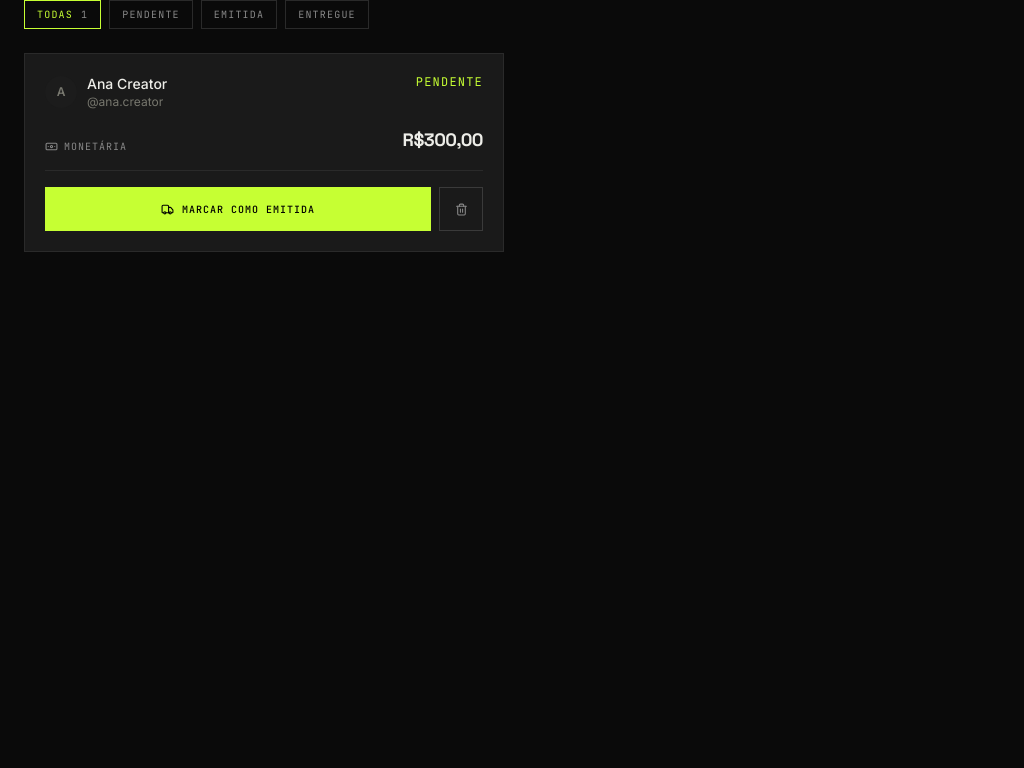
CampaignRewardsTab › remover recompensa › pede confirmação antes de apagar, e não apaga nada até confirmar
This screenshot has width=1024, height=768.
Click the button named "remover recompensa".
click(461, 209)  # box x1=439 y1=187 x2=483 y2=231
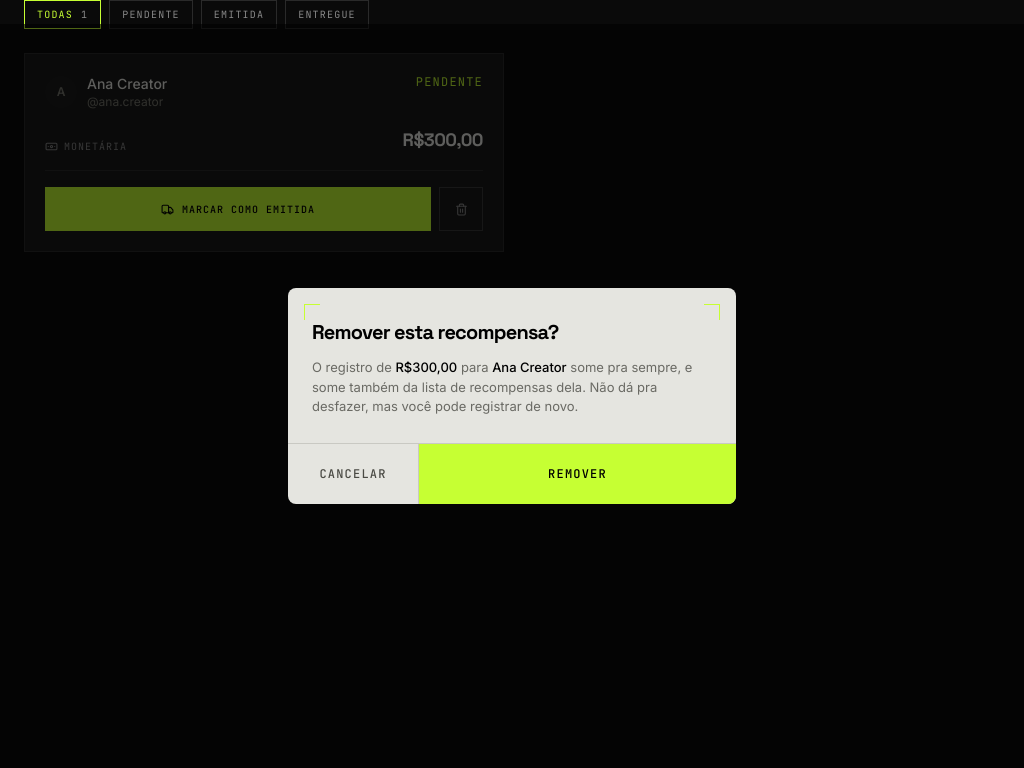
Now the text "Remover esta recompensa?" is shown, box x1=312 y1=319 x2=559 y2=345
Now the text "some pra sempre" is shown, box x1=312 y1=359 x2=692 y2=414
